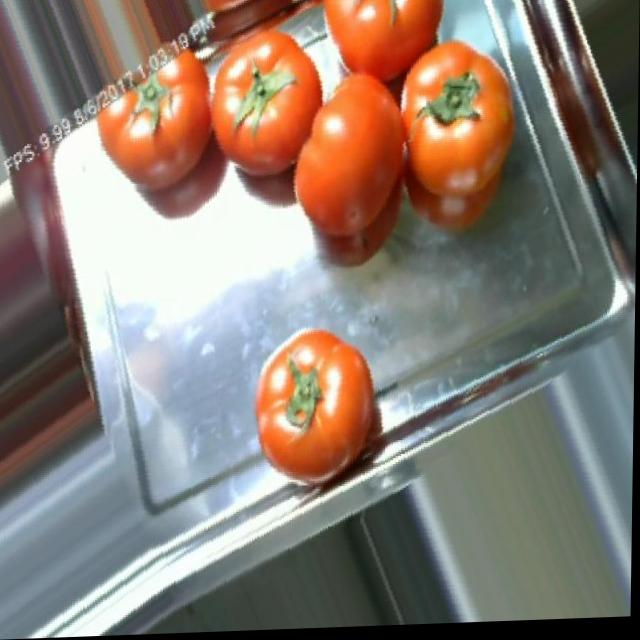kirmizi: (193, 35, 527, 246), (246, 317, 386, 473)
